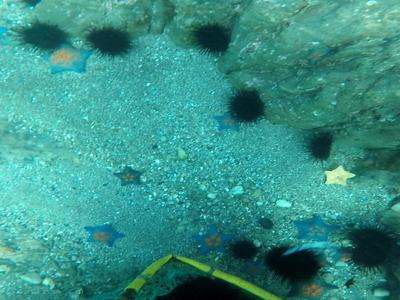urchin: (266, 245, 318, 283), (349, 222, 390, 269), (80, 22, 131, 58), (15, 17, 66, 51), (225, 85, 265, 126), (190, 21, 233, 54), (305, 129, 335, 160), (228, 237, 256, 262)
